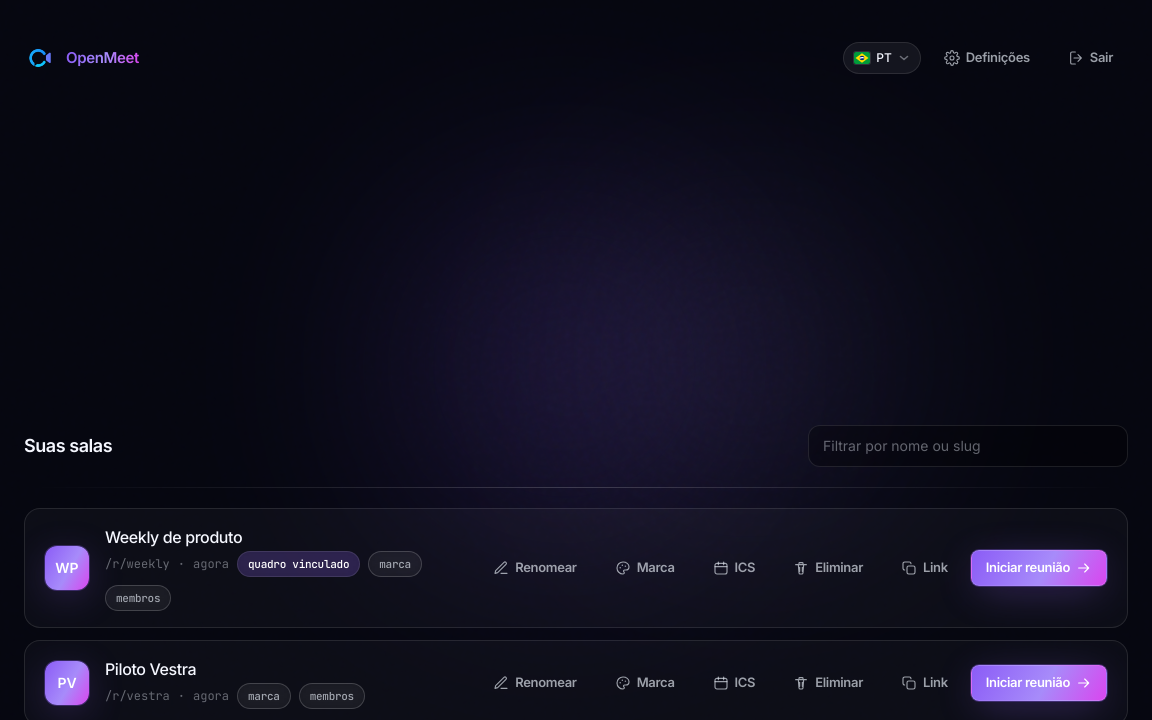
Test: DashboardPage › filters the list as the user types
This screenshot has width=1152, height=720.
Check: the text "Weekly de produto" is shown, box top-left (105, 526), bottom-right (242, 546)
Type "vestra" into the field named "Filtrar salas" at (968, 446), box top-left (808, 424), bottom-right (1128, 466)
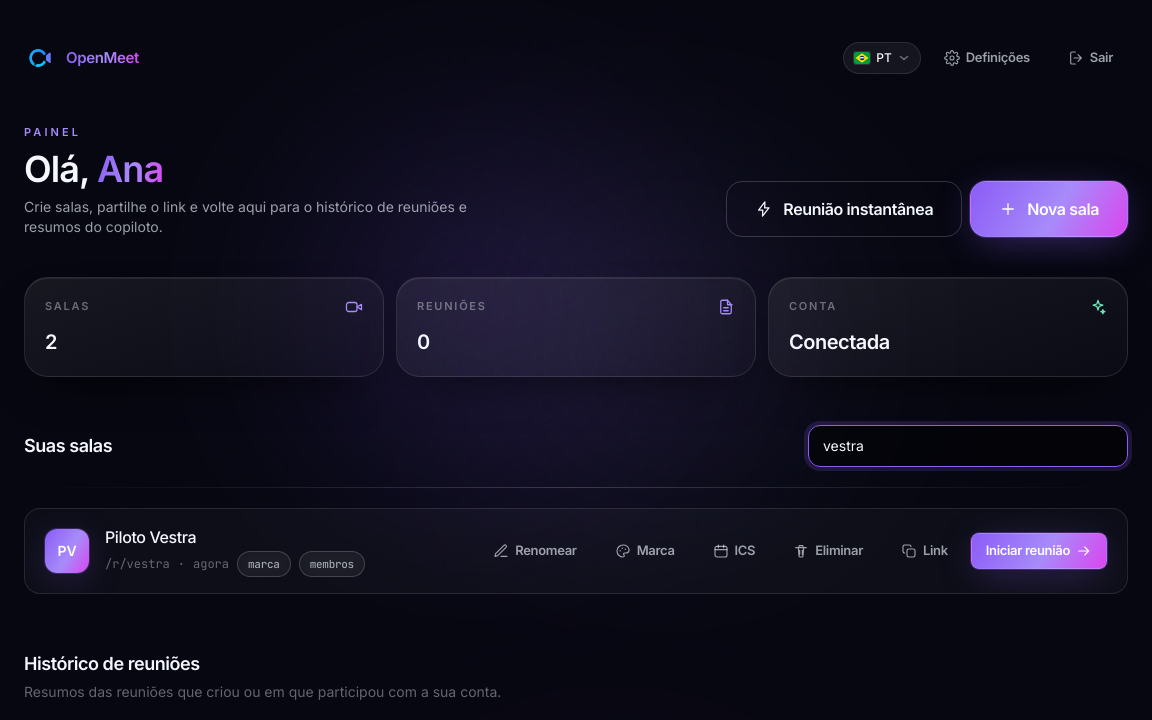
Check: the text "Piloto Vestra" is shown, box top-left (105, 526), bottom-right (196, 546)
Check: the text "Weekly de produto" is gone
